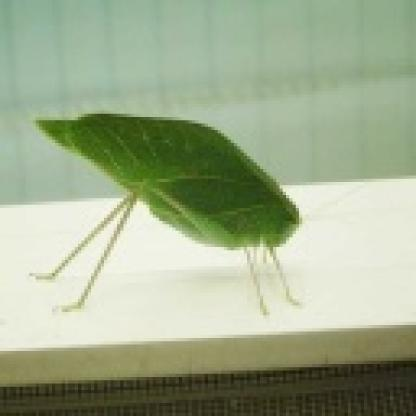grasshopper: (32, 105, 322, 315)
